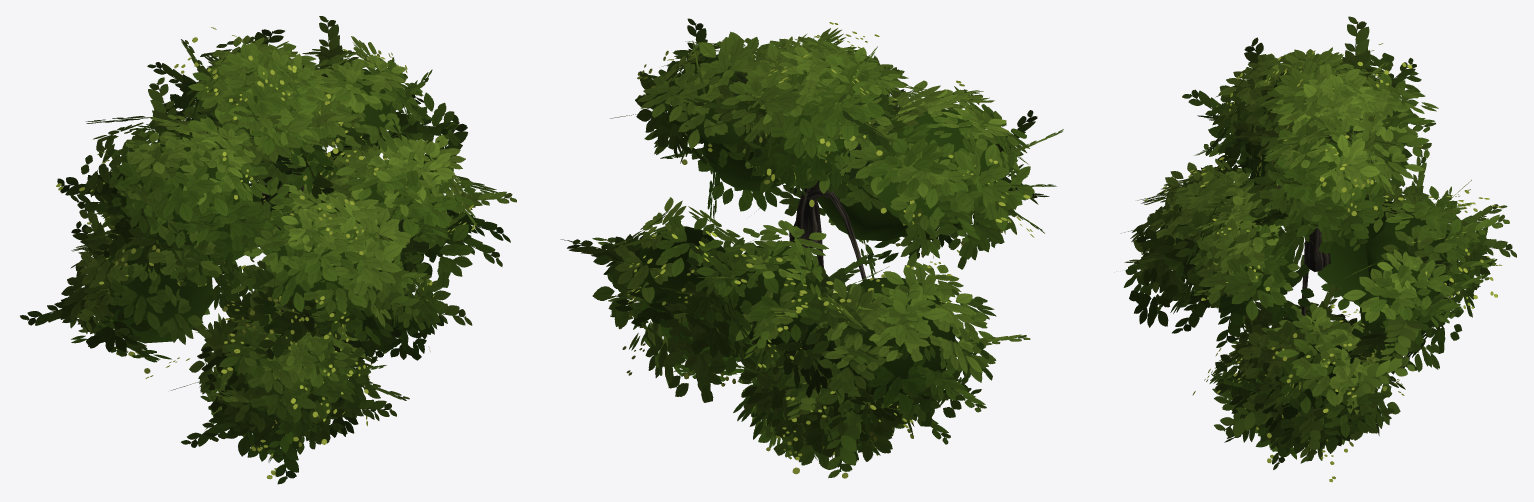
Rendered from CrePlant01.glb.
3 renders of one model, left to right at view 1: azimuth 30°, elevation 25°; view 2: azimuth 150°, elevation 25°; view 3: azimuth 270°, elevation 25°, orthographic. The views are drawn at different scales.
Visible parts, largest first — view 1: CrePlant01_leaves; view 2: CrePlant01_leaves; view 3: CrePlant01_leaves.
Part boxes in pixels (x1=…): CrePlant01_leaves: x1=20, y1=16, x2=516, y2=484; CrePlant01_leaves: x1=560, y1=18, x2=1063, y2=478; CrePlant01_leaves: x1=1121, y1=16, x2=1516, y2=482.
Size of the model in its own units: 2.94 by 2.88 by 2.64.
Materials: 3 (2 with a texture image).
